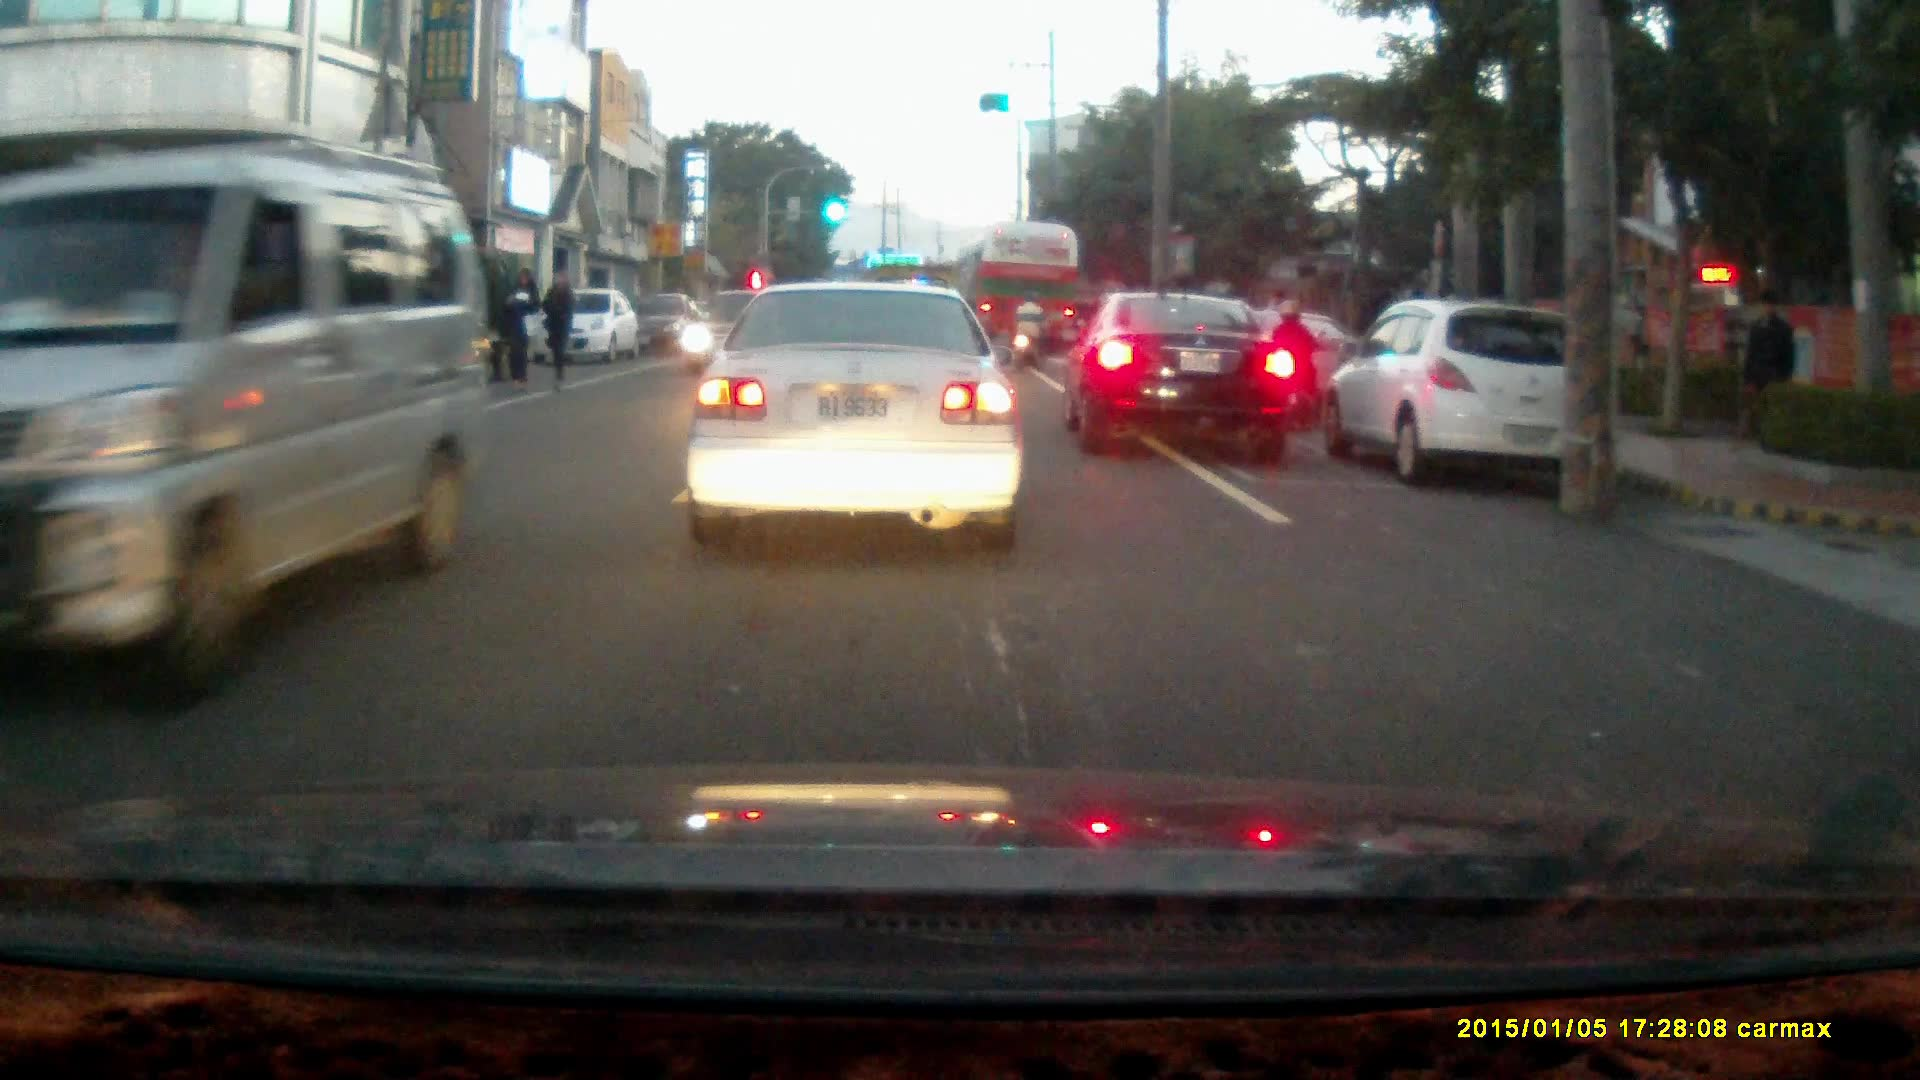pedestrian: (1739, 288, 1798, 453), (497, 264, 538, 385), (538, 262, 575, 394)
rider: (1271, 299, 1327, 437), (1010, 292, 1046, 369)
vehicle: (1, 139, 487, 724), (679, 281, 1028, 556), (1316, 297, 1608, 491), (1063, 293, 1298, 465), (964, 221, 1085, 363), (680, 286, 793, 382), (530, 287, 639, 363)
